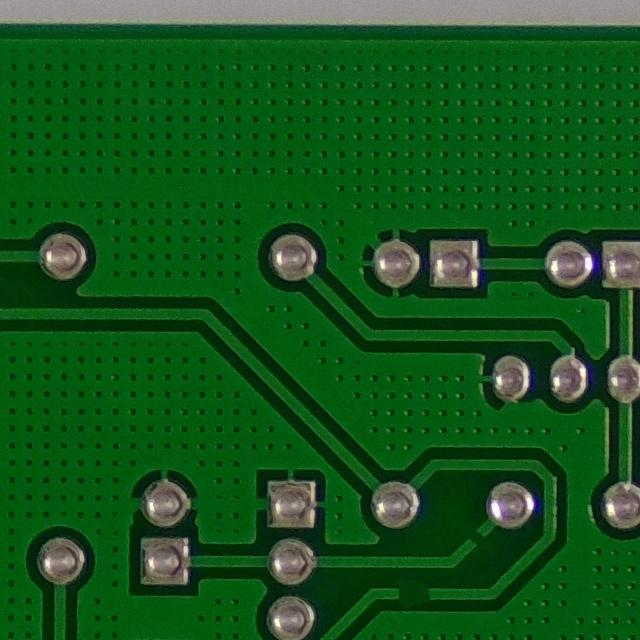open_circuit: (388, 575, 436, 610), (460, 524, 491, 552)
